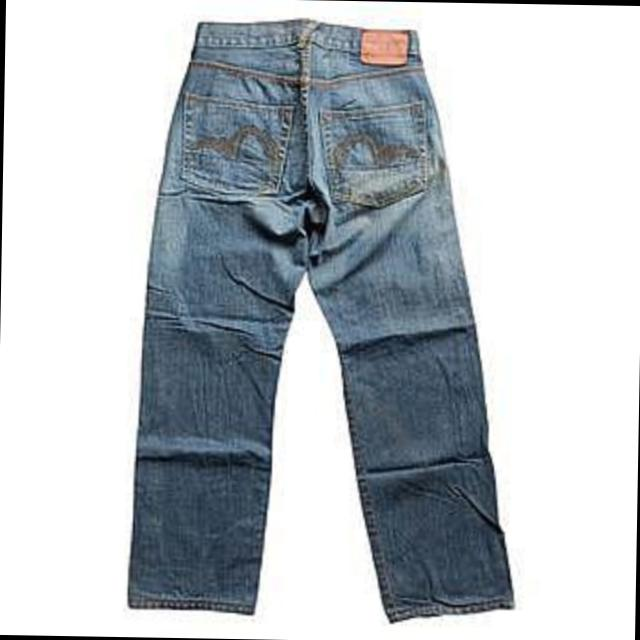TROUSER: (105, 8, 540, 630)
